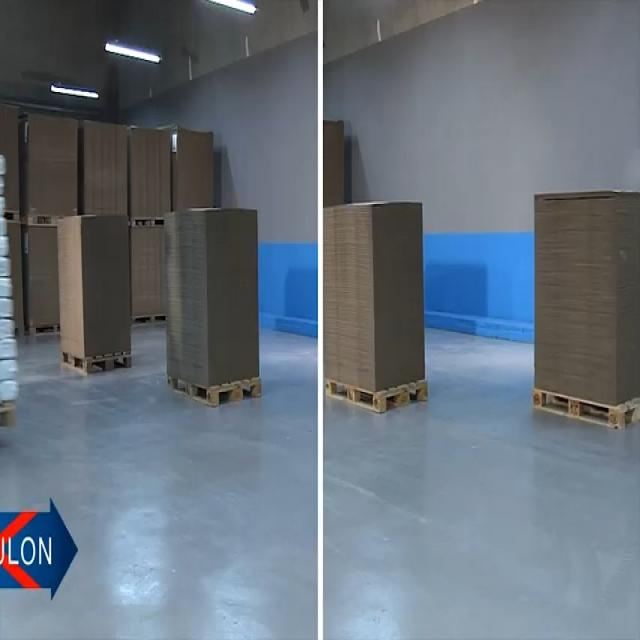Palette: (531, 382, 640, 438), (326, 373, 436, 419), (165, 370, 264, 410), (58, 349, 136, 384), (28, 321, 61, 347), (28, 205, 60, 231), (129, 211, 166, 232), (127, 311, 167, 328), (0, 399, 18, 428), (17, 320, 26, 351), (5, 210, 22, 222)
